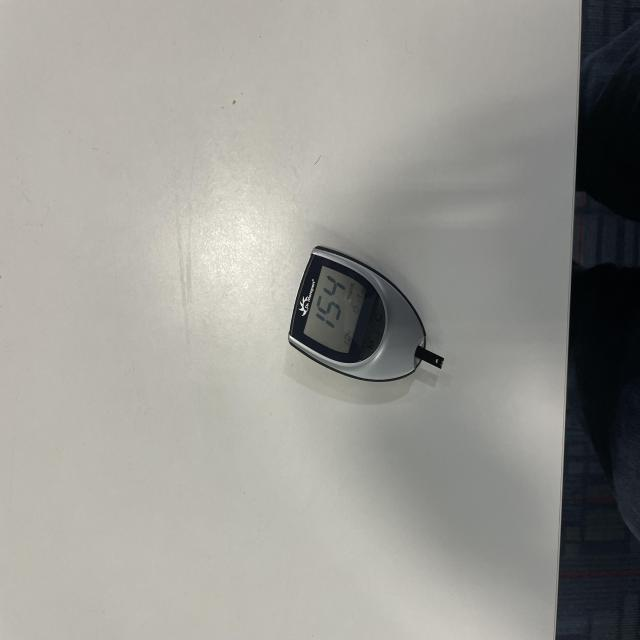gluco: (288, 247, 442, 387)
